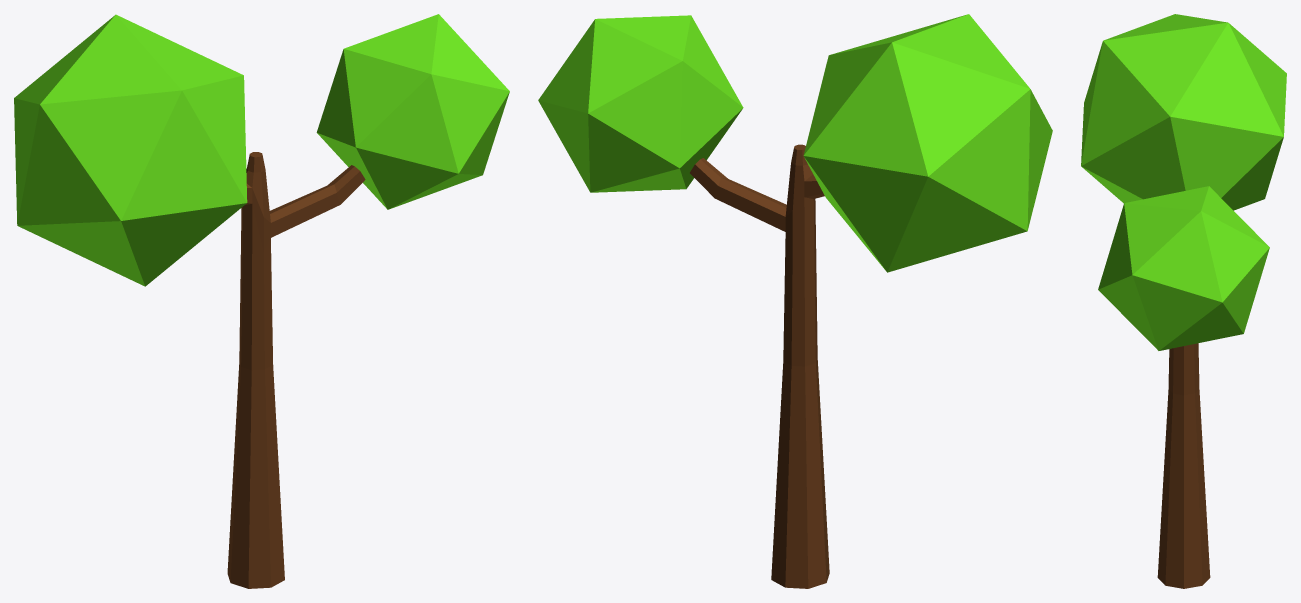
Rendered from tree2.fbx.
The picture shows the model from 3 angles, left to right: view 1: azimuth 30°, elevation 25°; view 2: azimuth 150°, elevation 25°; view 3: azimuth 270°, elevation 25°; orthographic projection. The views are drawn at different scales.
Visible parts, largest first — view 1: treeLog; view 2: treeLog; view 3: treeLog.
Part boxes in pixels (<box>): treeLog: <box>14,14,509,588</box>; treeLog: <box>538,14,1052,588</box>; treeLog: <box>1081,14,1286,588</box>.
Bounding box in the file's own units: 4.06 × 4.75 × 1.75.
